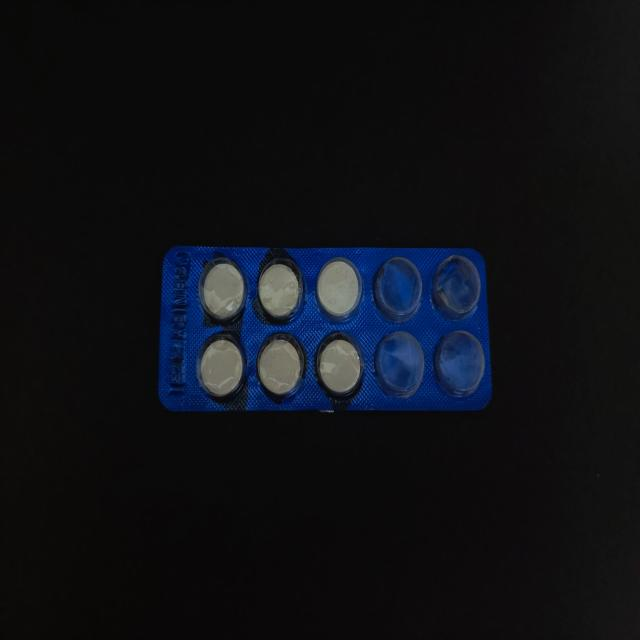defect: (370, 252, 424, 326), (372, 329, 426, 402), (432, 328, 486, 399), (429, 252, 482, 323)
